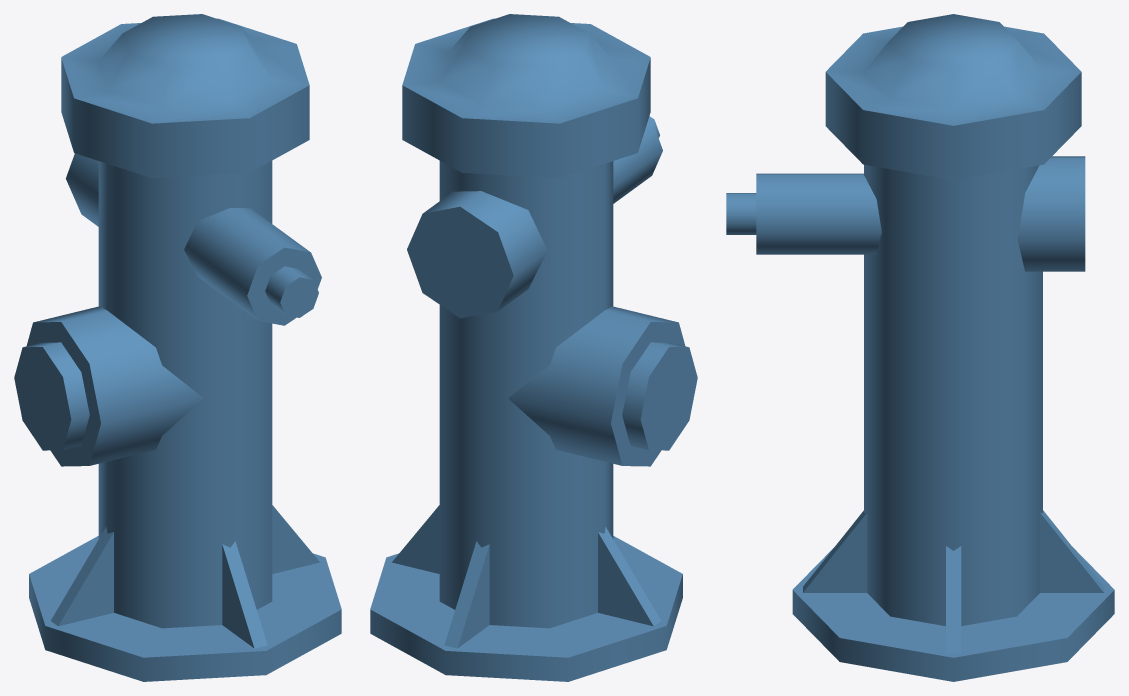
The model's file is FireHydrant.fbx.
The picture shows the model from 3 angles, left to right: view 1: azimuth 30°, elevation 25°; view 2: azimuth 150°, elevation 25°; view 3: azimuth 270°, elevation 25°; orthographic projection.
Visible parts, largest first — view 1: Fire_Hydrant; view 2: Fire_Hydrant; view 3: Fire_Hydrant.
Boxes of the visible parts, <box> form: Fire_Hydrant: <box>14,14,341,681</box>; Fire_Hydrant: <box>370,14,697,681</box>; Fire_Hydrant: <box>726,14,1114,681</box>.
Size of the model in its own units: 0.3274 by 0.6362 by 0.3912.
